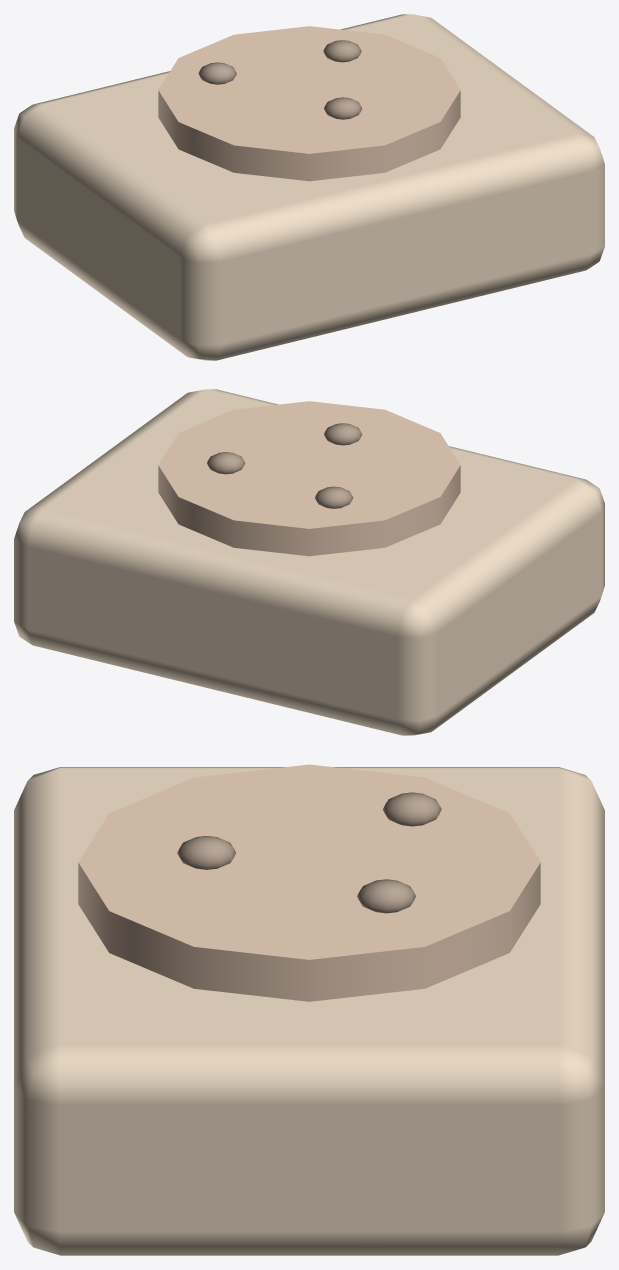
File: cookie.glb
3 renders of one model, top to bottom at view 1: azimuth 30°, elevation 25°; view 2: azimuth 150°, elevation 25°; view 3: azimuth 270°, elevation 25°, orthographic. The views are drawn at different scales.
Visible parts, largest first — view 1: cookie.material0, cookie.material1, cookie.material2; view 2: cookie.material0, cookie.material1, cookie.material2; view 3: cookie.material0, cookie.material1, cookie.material2.
Part boxes in pixels (x1=…): cookie.material0: x1=14, y1=14, x2=604, y2=360; cookie.material1: x1=158, y1=26, x2=460, y2=181; cookie.material2: x1=198, y1=40, x2=362, y2=119; cookie.material0: x1=14, y1=389, x2=604, y2=735; cookie.material1: x1=158, y1=401, x2=460, y2=556; cookie.material2: x1=207, y1=423, x2=362, y2=508; cookie.material0: x1=14, y1=767, x2=604, y2=1255; cookie.material1: x1=78, y1=764, x2=540, y2=1001; cookie.material2: x1=177, y1=792, x2=441, y2=913.
Bounding box in the file's own units: 0.29 × 0.118 × 0.23.
